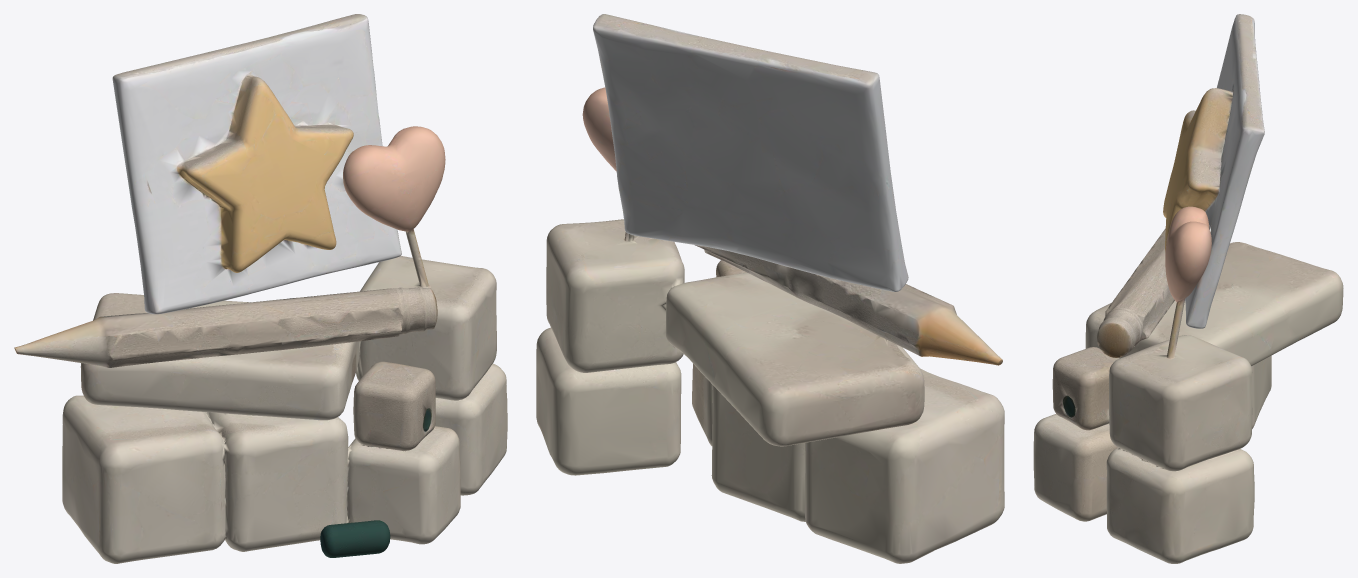
3 renders of one model, left to right at view 1: azimuth 30°, elevation 25°; view 2: azimuth 150°, elevation 25°; view 3: azimuth 270°, elevation 25°, orthographic. The views are drawn at different scales.
Size of the model in its own units: 1.9 by 1.74 by 1.22.
1 material, 1 textured.
